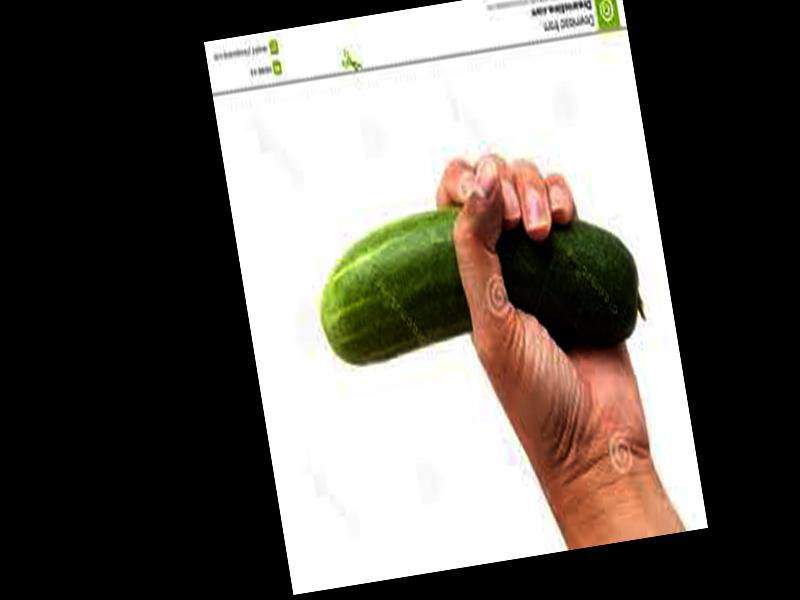Cucumber: (305, 177, 645, 388)
